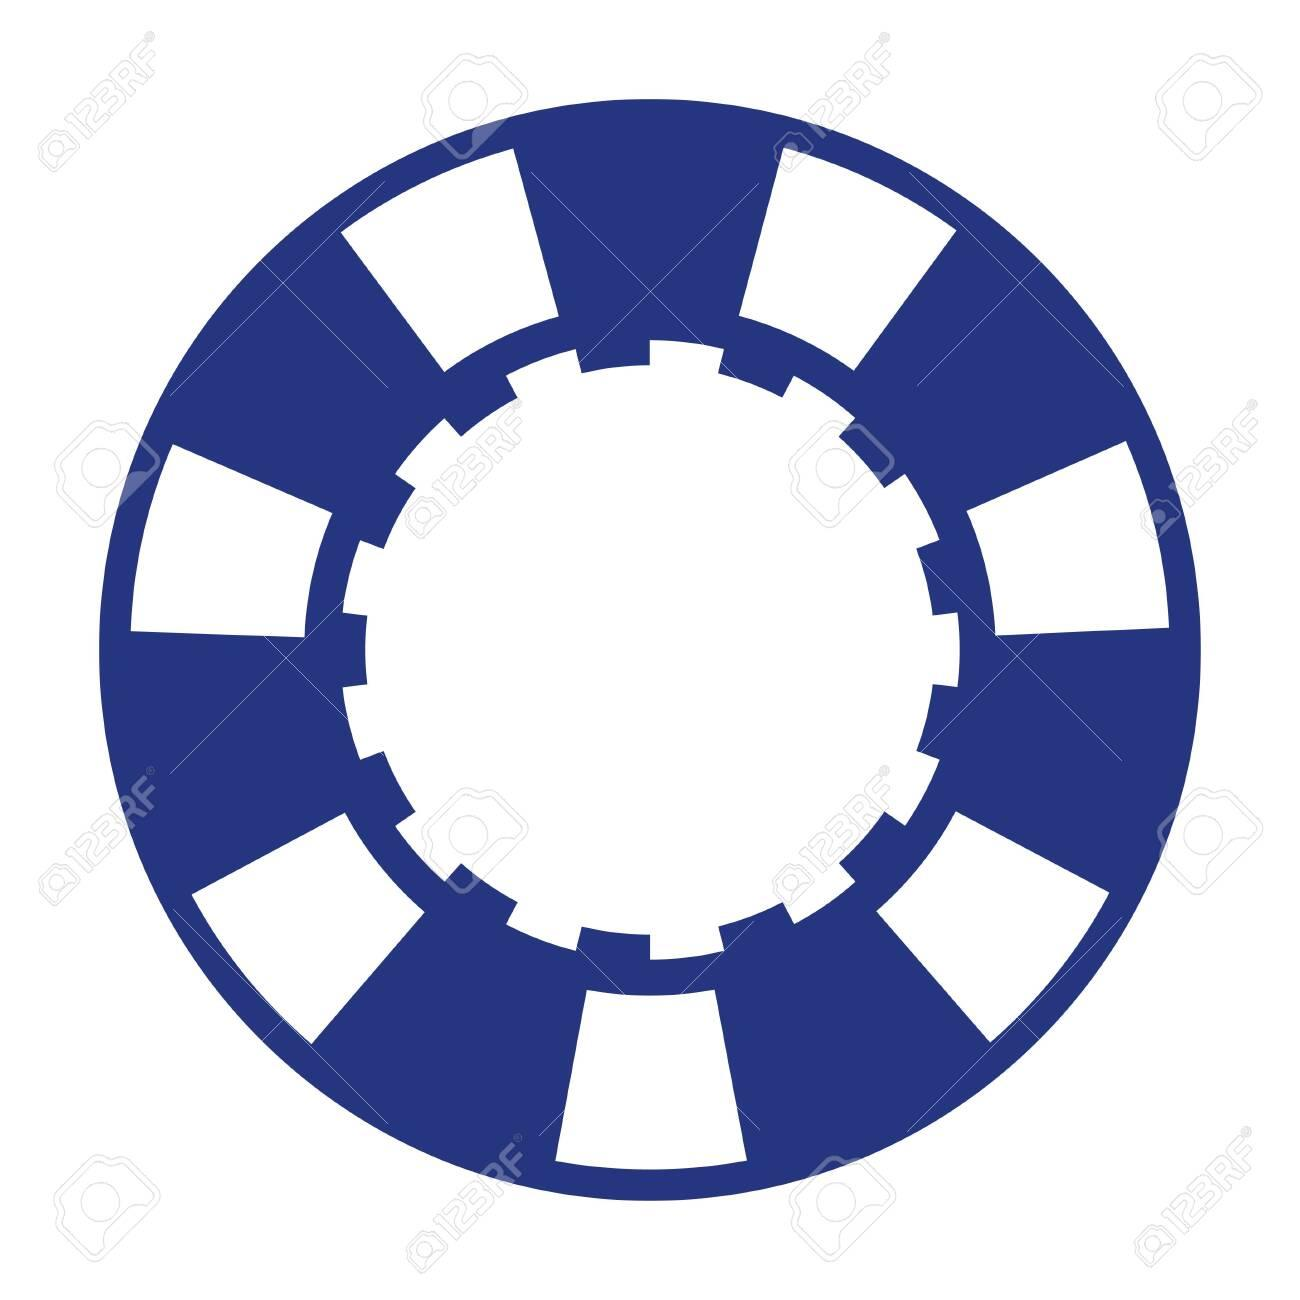chip-blue: (101, 101, 1199, 1199)
